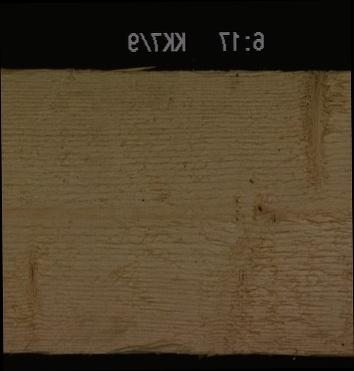small_knot: (250, 200, 266, 214), (268, 210, 279, 224)
wave: (105, 334, 187, 353)
